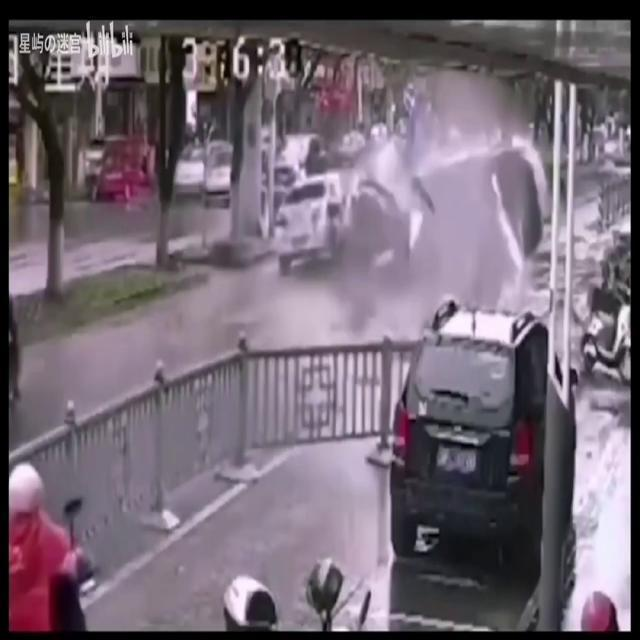accident: (336, 134, 546, 326)
non-accident: (175, 139, 268, 209)
